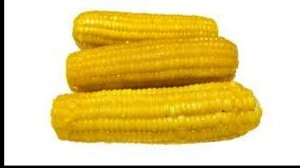corn: (47, 79, 264, 143), (66, 38, 238, 90), (72, 11, 219, 64)
